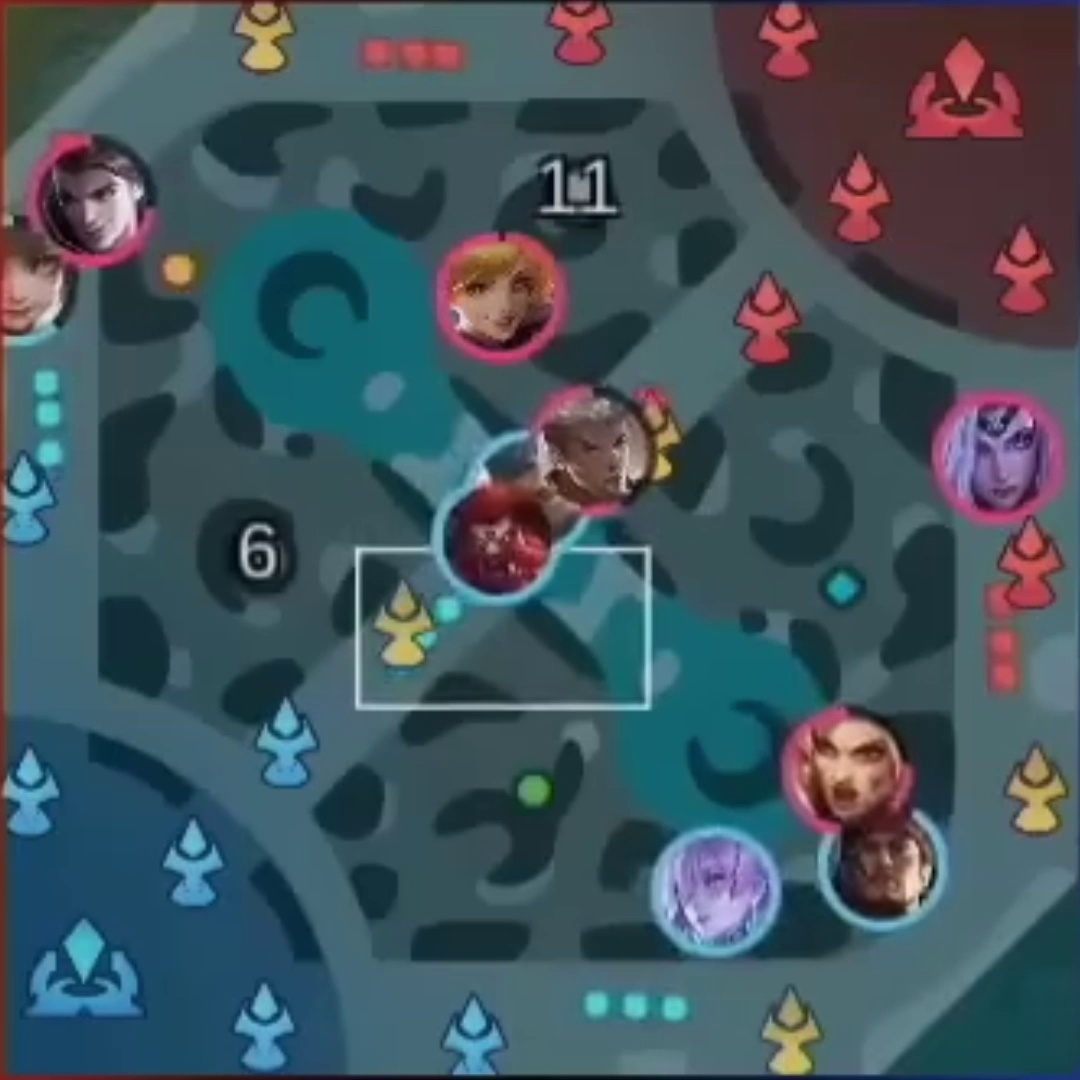Chou: (539, 392, 652, 504)
Claude: (42, 145, 143, 251)
Fanny: (448, 243, 550, 352)
Lapu-Lapu: (827, 823, 941, 928)
Masha: (794, 716, 899, 821)
Minotaur: (449, 491, 543, 589)
Novaria: (661, 838, 759, 945)
Valentina: (940, 395, 1058, 521)
Wanwan: (1, 228, 70, 328)
